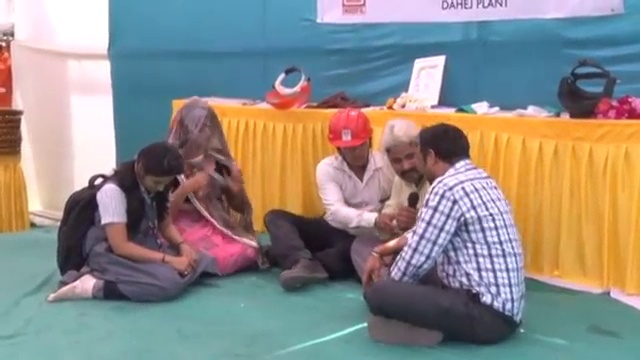helmet: (325, 105, 375, 152)
helmet_off: (410, 124, 473, 187), (171, 102, 223, 174), (126, 140, 187, 199), (382, 115, 426, 189)
helmet_on: (326, 110, 375, 177)
person: (362, 115, 528, 344), (51, 137, 197, 307), (266, 103, 385, 277), (155, 97, 260, 283), (352, 119, 437, 276)
